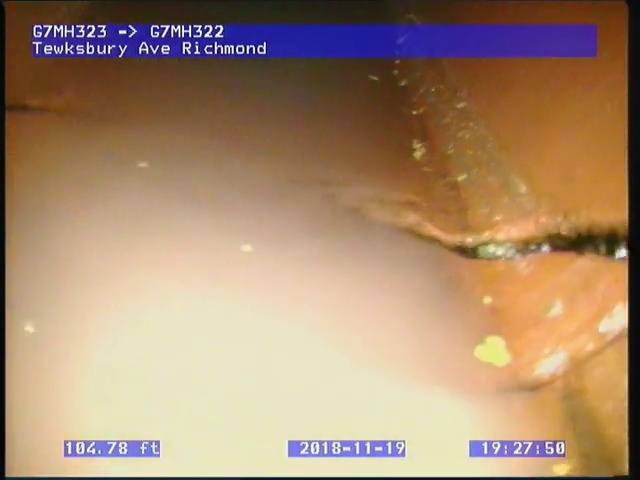crack: (399, 213, 627, 264), (5, 97, 62, 123)
